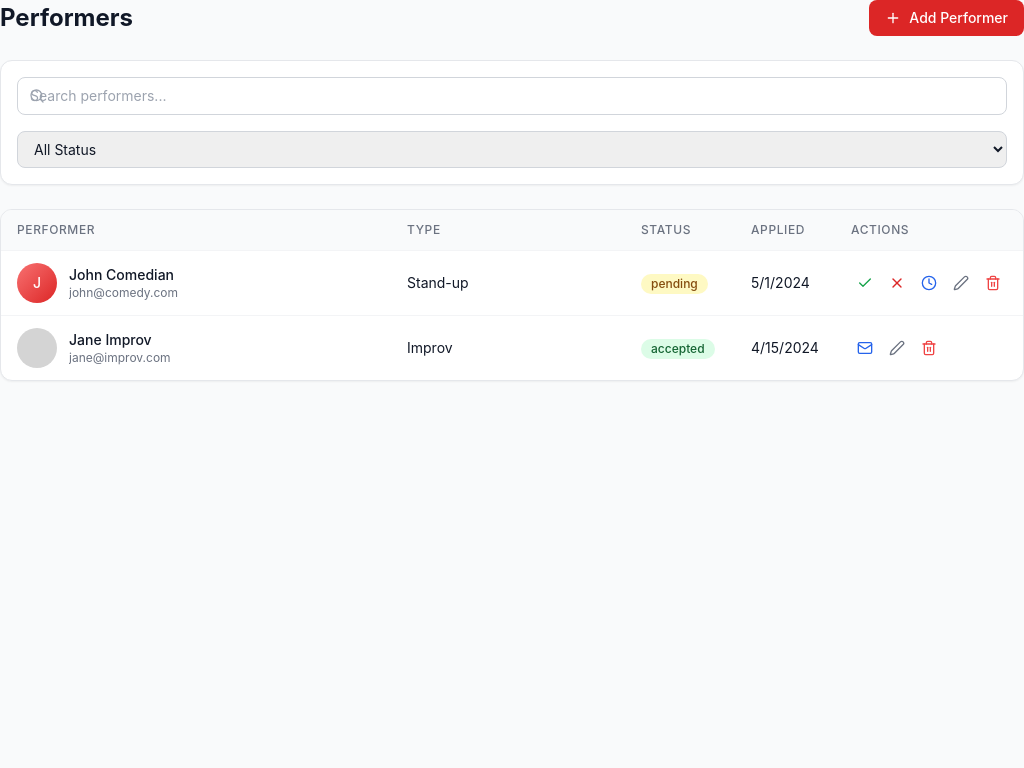
Test case: Performers › edit and delete › opens delete confirmation when clicking Delete
The image size is (1024, 768).
Expected: the text "John Comedian" is shown, [69,265,178,285]
Click the button titled "Delete" in the row of "John Comedian" at (993, 283), box [979,269,1007,297]
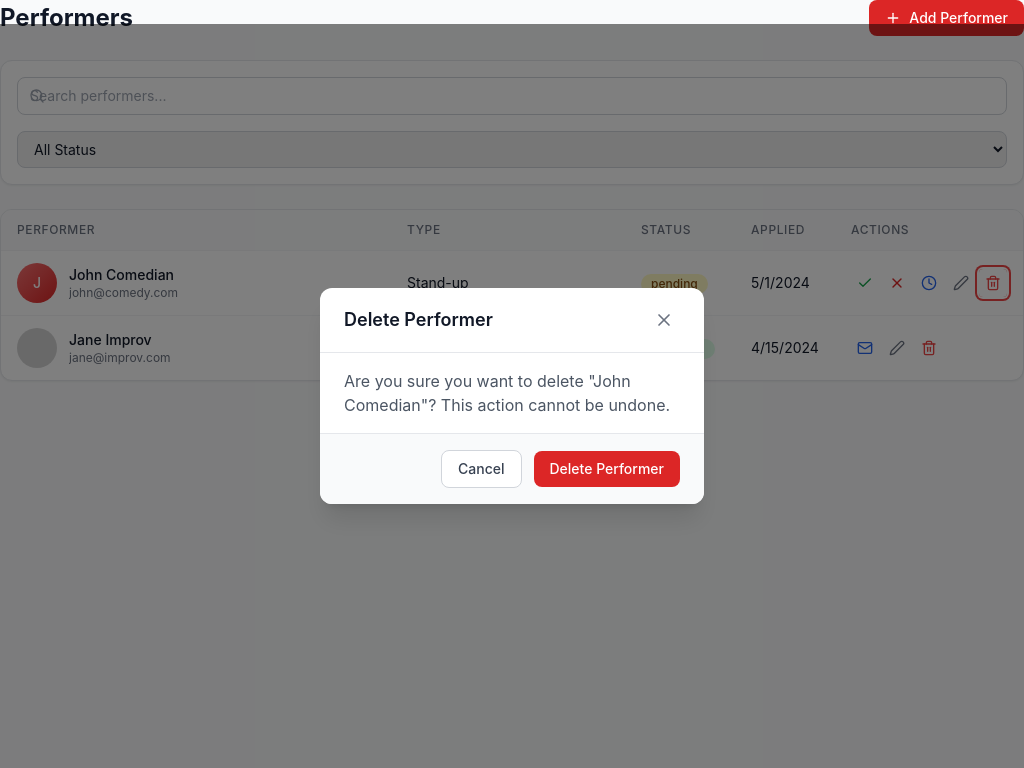
Now the text "Are you sure you want to delete \"John Comedian\"" is shown, box [344,371,670,415]
